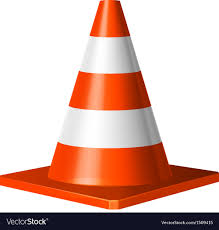cones: (8, 1, 219, 207)
